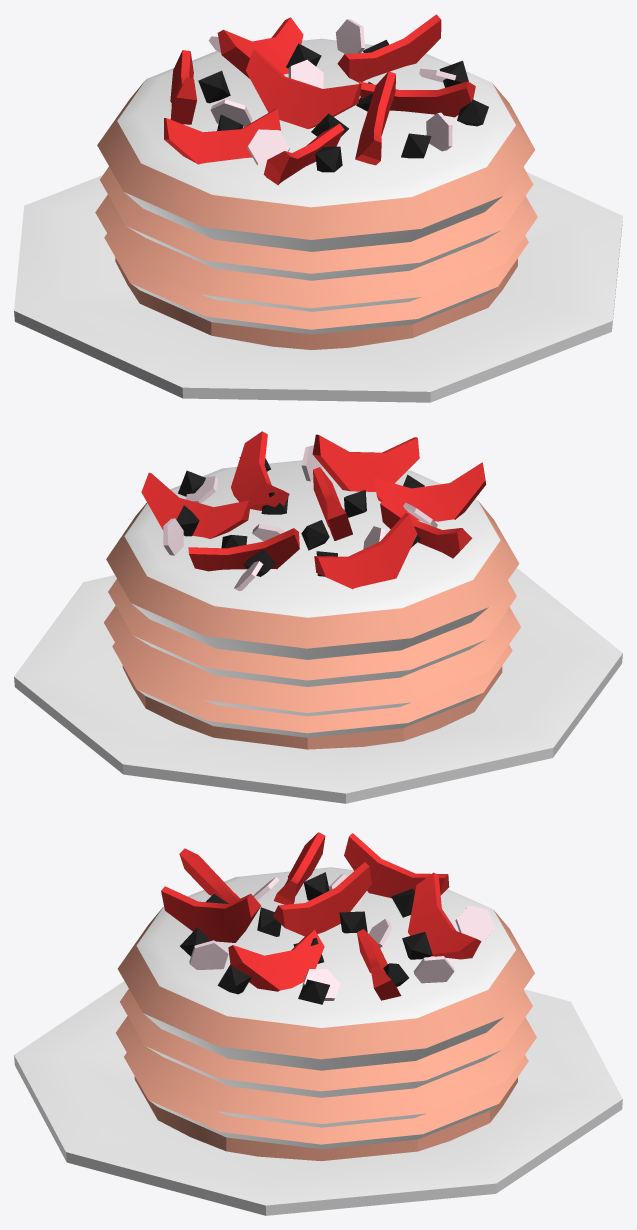
File: shop_061.glb
3 views of the same model, one above another, from view 1: azimuth 30°, elevation 25°; view 2: azimuth 150°, elevation 25°; view 3: azimuth 270°, elevation 25° (orthographic). The views are drawn at different scales.
Visible parts, largest first — view 1: shop_061; view 2: shop_061; view 3: shop_061.
Boxes of the visible parts, box(x1,y1,x2,y2) form: shop_061: box(14, 14, 622, 402); shop_061: box(14, 431, 622, 803); shop_061: box(14, 832, 622, 1215).
Size of the model in its own units: 0.2521 by 0.1014 by 0.252.
1 material, 1 textured.
